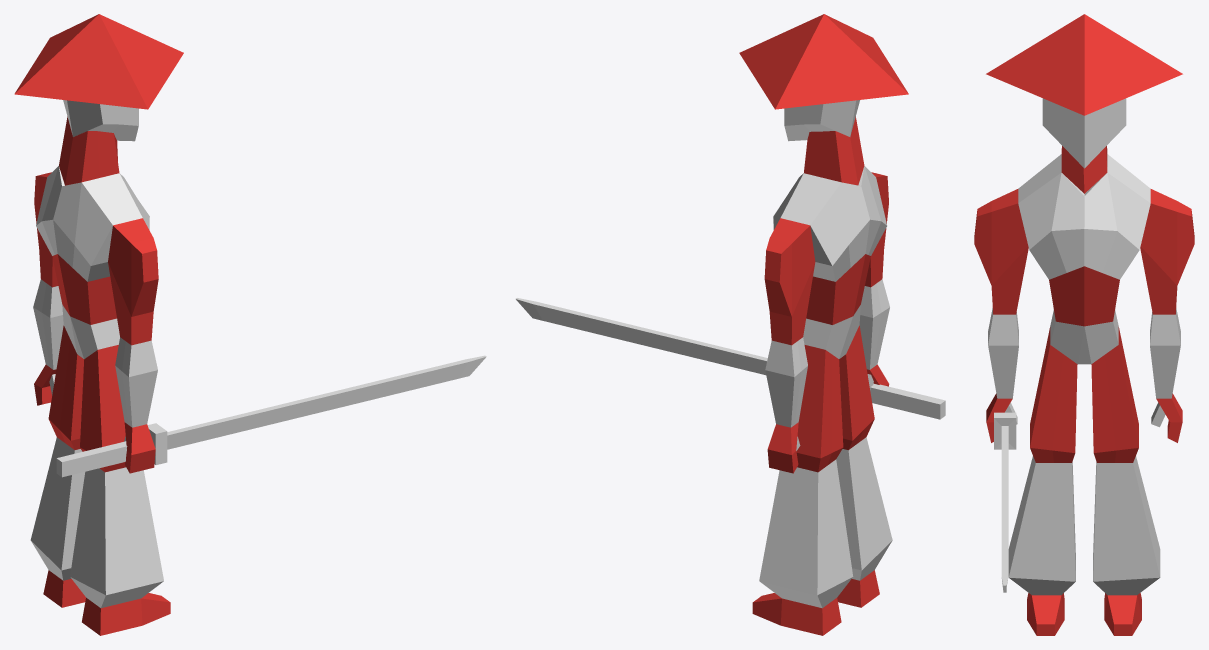
File: Samurai_FBX.fbx
3 views of the same model, side by side, from view 1: azimuth 30°, elevation 25°; view 2: azimuth 150°, elevation 25°; view 3: azimuth 270°, elevation 25° (orthographic).
Visible parts, largest first — view 1: Hat, R_Leg_Inf, Sword, Chest, R_Arm, L_Leg_Inf, R_Leg_Sup, L_Leg_Sup, R_AvantArm, Neck, Belly, R_Toe (+6 smaller); view 2: Hat, L_Leg_Inf, Chest, Sword, L_Arm, R_Leg_Inf, L_Leg_Sup, R_Leg_Sup, L_AvantArm, Neck, Belly, L_Toe (+6 smaller); view 3: Chest, Hat, L_Leg_Inf, R_Leg_Inf, L_Arm, R_Arm, L_Leg_Sup, R_Leg_Sup, Head, Belly, Hip, L_AvantArm (+7 smaller).
Boxes of the visible parts, bbox=[...] form: Hat: bbox=[14, 14, 183, 109]; R_Leg_Inf: bbox=[70, 467, 163, 608]; Sword: bbox=[56, 355, 486, 477]; Chest: bbox=[36, 166, 149, 281]; R_Arm: bbox=[108, 218, 158, 345]; L_Leg_Inf: bbox=[30, 437, 85, 580]; R_Leg_Sup: bbox=[80, 345, 125, 472]; L_Leg_Sup: bbox=[48, 325, 84, 449]; R_AvantArm: bbox=[115, 337, 157, 427]; Neck: bbox=[59, 116, 119, 185]; Belly: bbox=[52, 254, 116, 324]; R_Toe: bbox=[82, 593, 170, 635]; Hat: bbox=[739, 14, 908, 109]; L_Leg_Inf: bbox=[759, 459, 853, 608]; Chest: bbox=[773, 166, 887, 281]; Sword: bbox=[515, 298, 945, 419]; L_Arm: bbox=[764, 218, 815, 345]; R_Leg_Inf: bbox=[836, 437, 892, 580]; L_Leg_Sup: bbox=[796, 345, 843, 472]; R_Leg_Sup: bbox=[839, 325, 874, 450]; L_AvantArm: bbox=[765, 337, 807, 427]; Neck: bbox=[804, 116, 864, 185]; Belly: bbox=[806, 254, 870, 324]; L_Toe: bbox=[752, 593, 841, 635]; Chest: bbox=[1018, 154, 1150, 279]; Hat: bbox=[986, 14, 1182, 115]; L_Leg_Inf: bbox=[1093, 456, 1160, 595]; R_Leg_Inf: bbox=[1008, 456, 1075, 595]; L_Arm: bbox=[1140, 189, 1194, 314]; R_Arm: bbox=[974, 189, 1028, 314]; L_Leg_Sup: bbox=[1091, 327, 1138, 462]; R_Leg_Sup: bbox=[1030, 327, 1077, 462]; Head: bbox=[1042, 98, 1126, 168]; Belly: bbox=[1049, 266, 1119, 326]; Hip: bbox=[1050, 310, 1118, 364]; L_AvantArm: bbox=[1150, 308, 1180, 398].
Bounding box in the file's own units: 846 × 1112 × 371.
